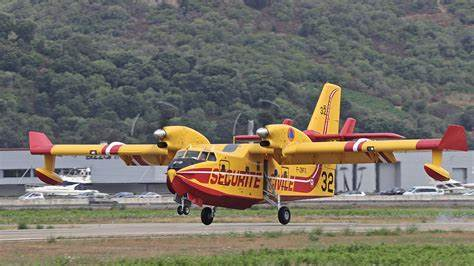Aeronef_de_service: (20, 73, 474, 237)
